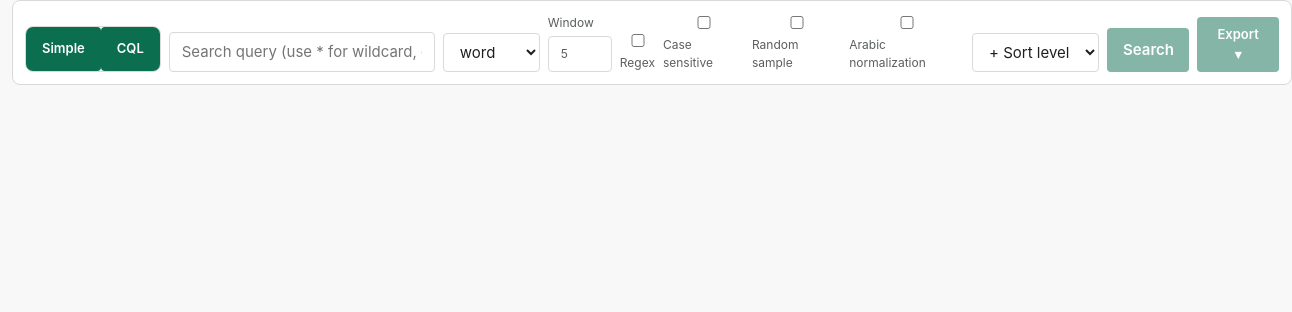
it: Concordancer CQL mode (v1.2.13-1) › invalid pattern: shows the engine's position-annotated 422 detail
The width and height of the screenshot is (1292, 312).
Step 1. Click the button "CQL" → coordinates (130, 49), box [101,27,160,71]
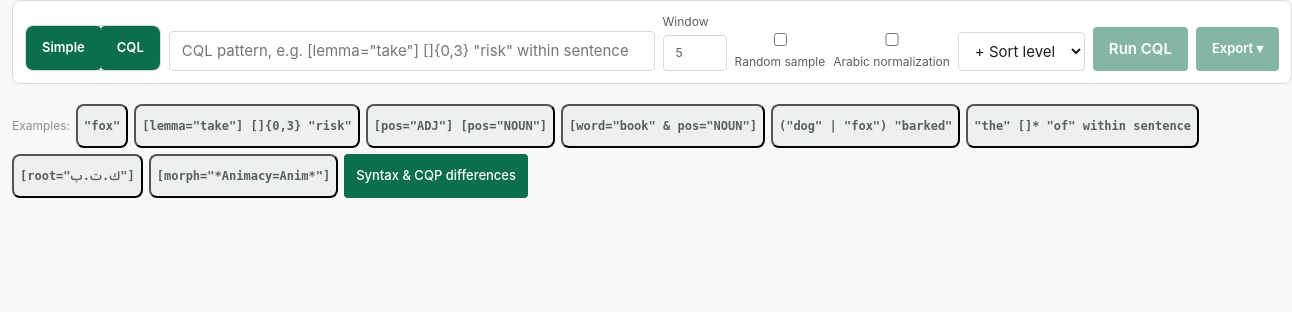
Step 2. Replace the text in the field with "[lemma=\"take\"" → coordinates (412, 51), box [169,30,655,71]
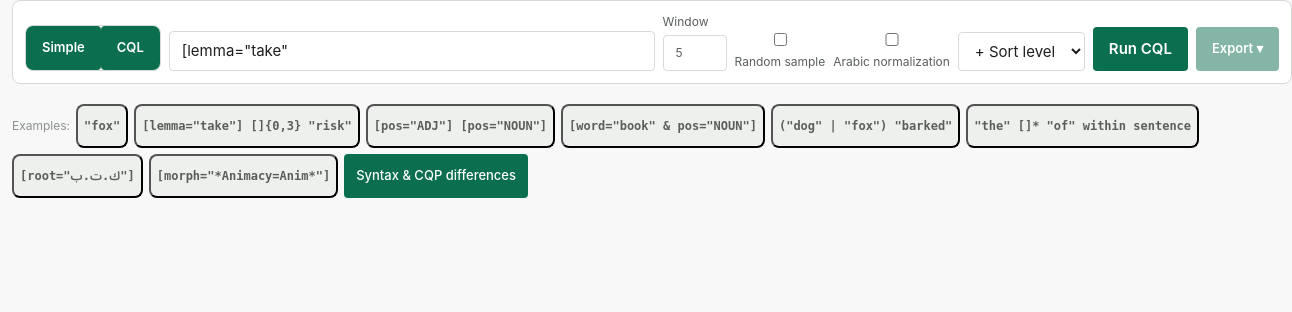
Step 3. Click the button "Run CQL" → coordinates (1140, 49), box [1093,27,1188,71]
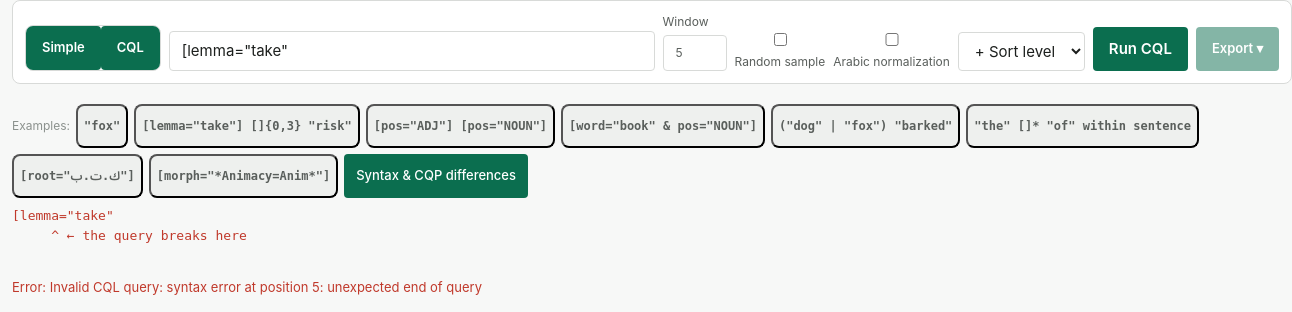
Now the text "Invalid CQL query: syntax error at position 5" is shown, box [50,279,482,295]
Now the message shows "Invalid CQL query", box [50,279,482,295]
